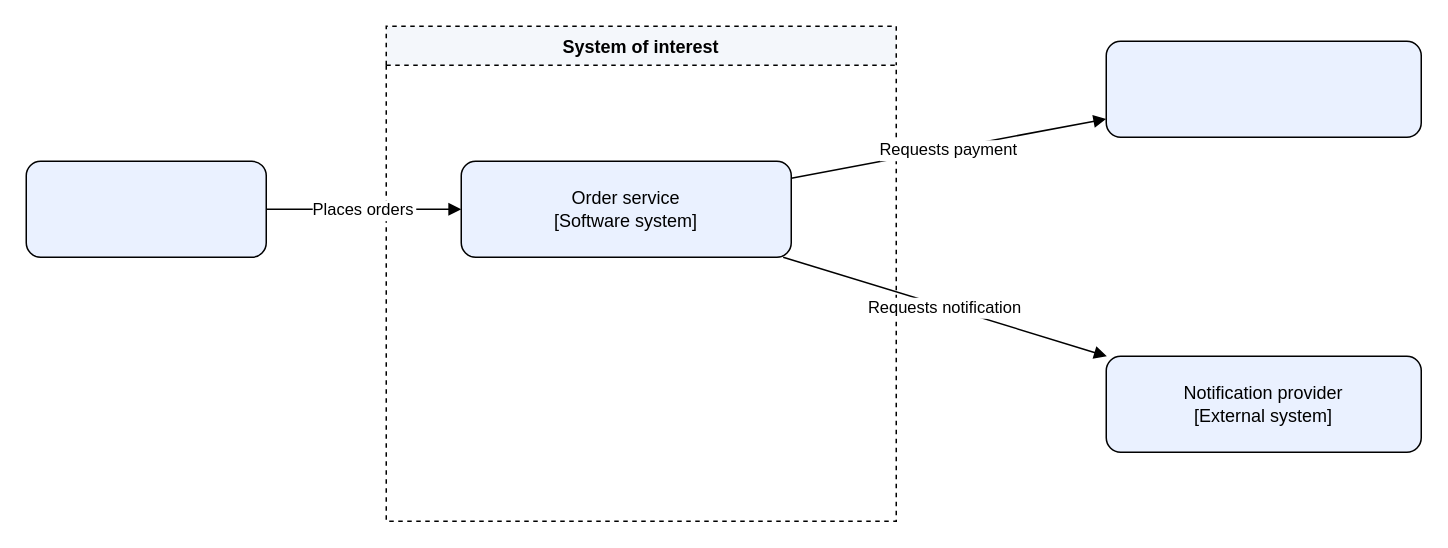
Some shapes in this 1448 by 548 pixel diagram are drawn without their labels. Each missing label, with the box of its shape:
Customer [Person]: (25, 160, 266, 257)
Payment provider [External system]: (1105, 40, 1421, 137)
